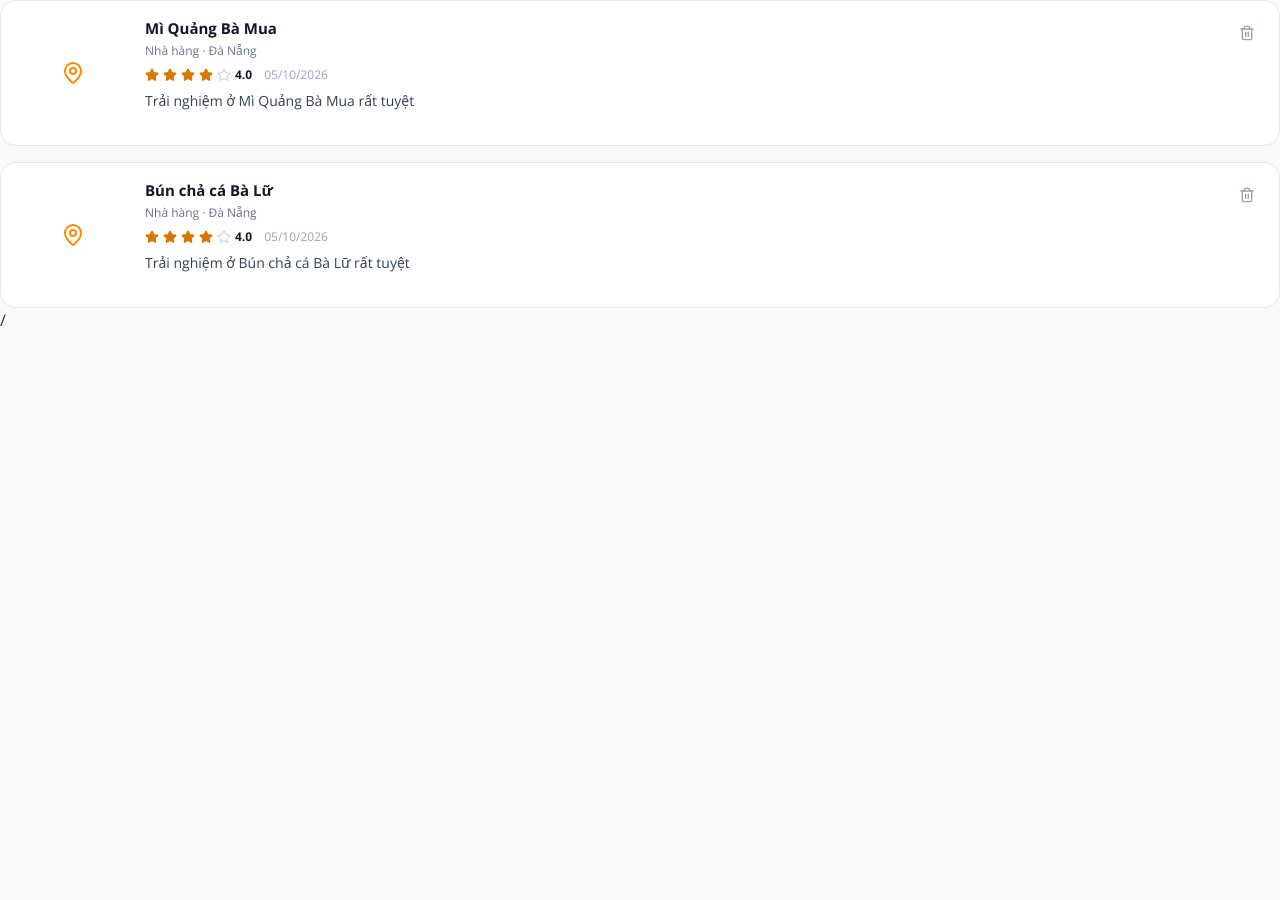
Test case: Tab Đánh giá › xác nhận xóa → đánh giá biến mất ngay và gọi API đúng id
Click the button named "Xóa đánh giá về Mì Quảng Bà Mua" at (1247, 33), box [1231,17,1263,49]
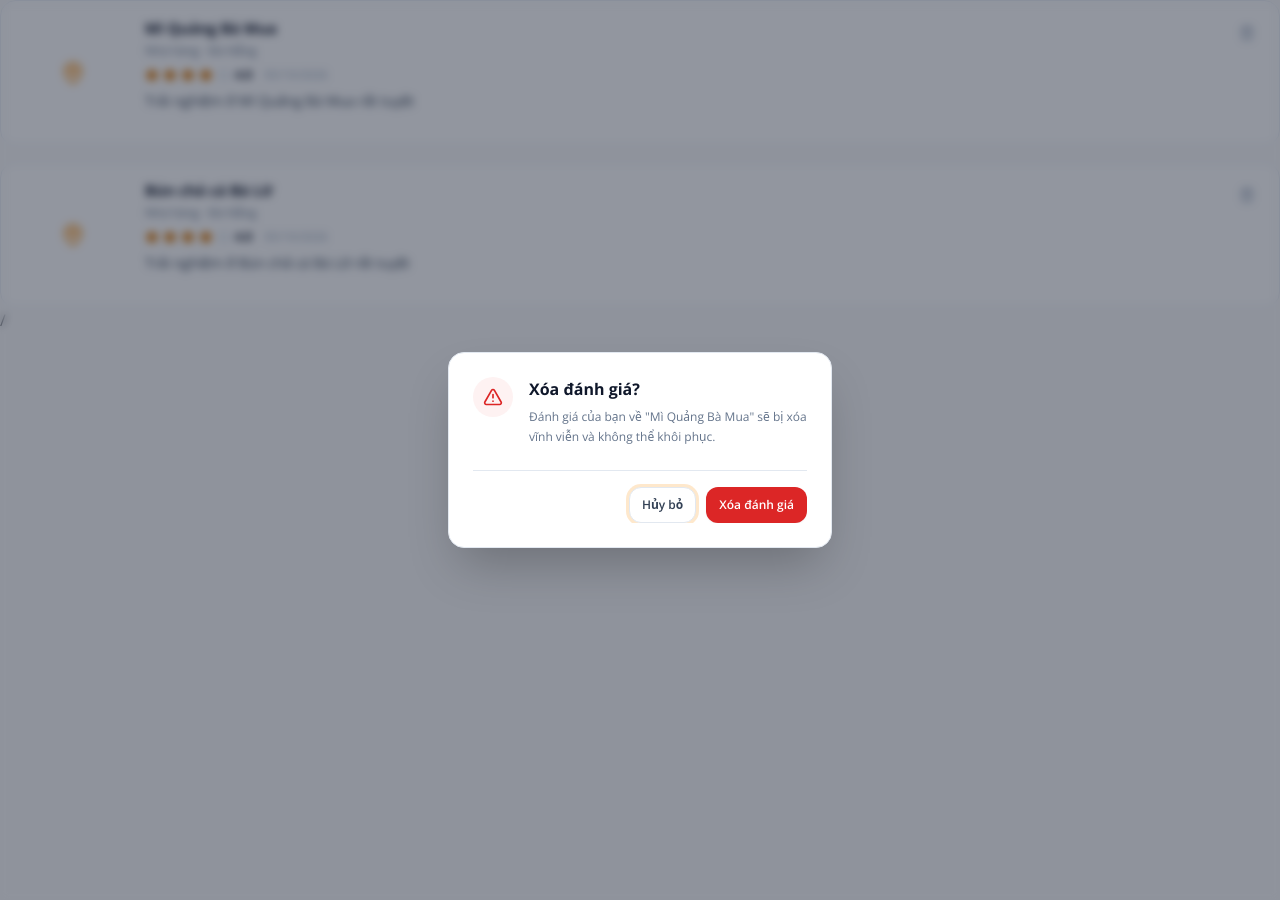
Click the button "Xóa đánh giá" at (757, 505), box [706,487,807,523]
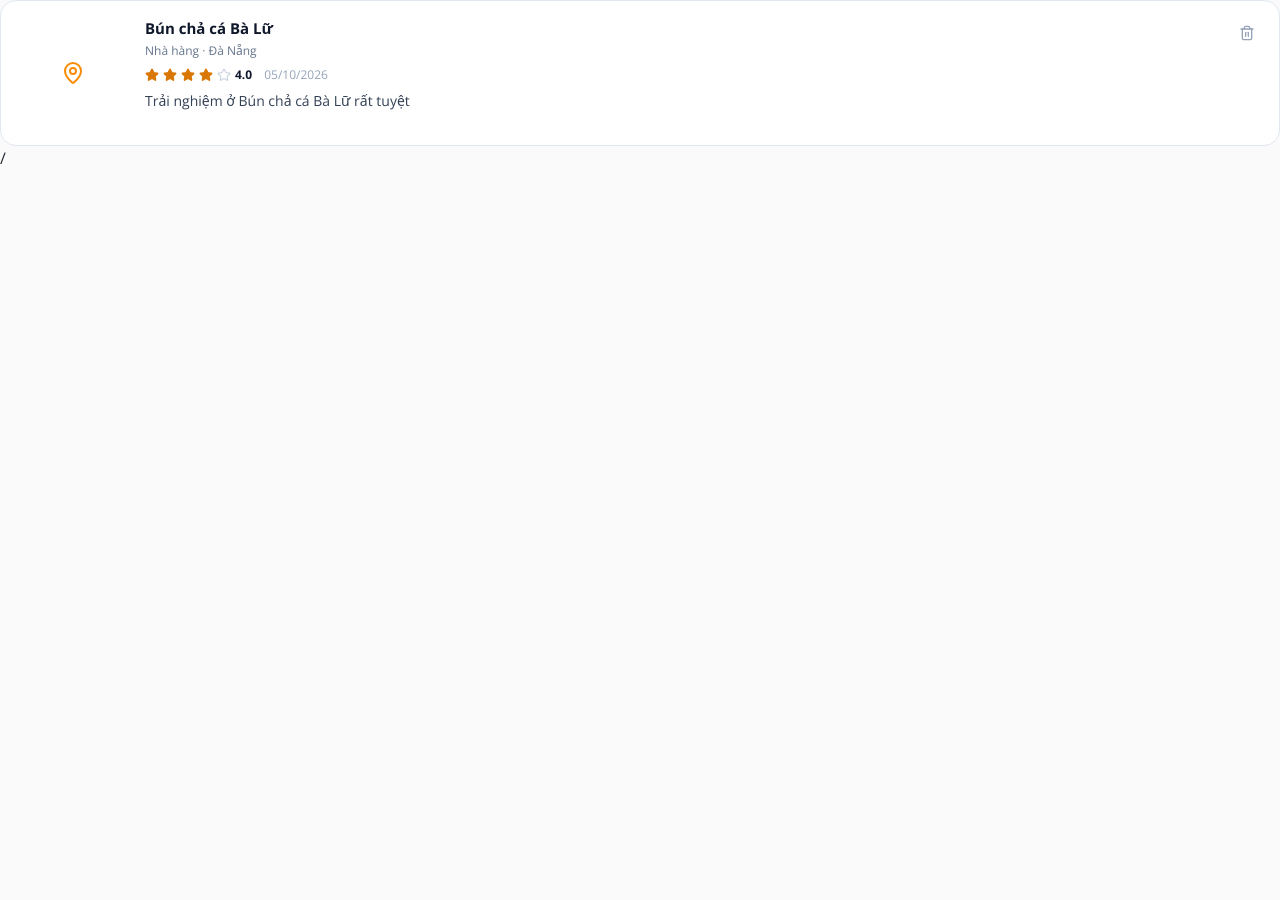
Expected: the link "Bún chả cá Bà Lữ" is shown, [145,18,273,38]
Now the link "Mì Quảng Bà Mua" is gone
